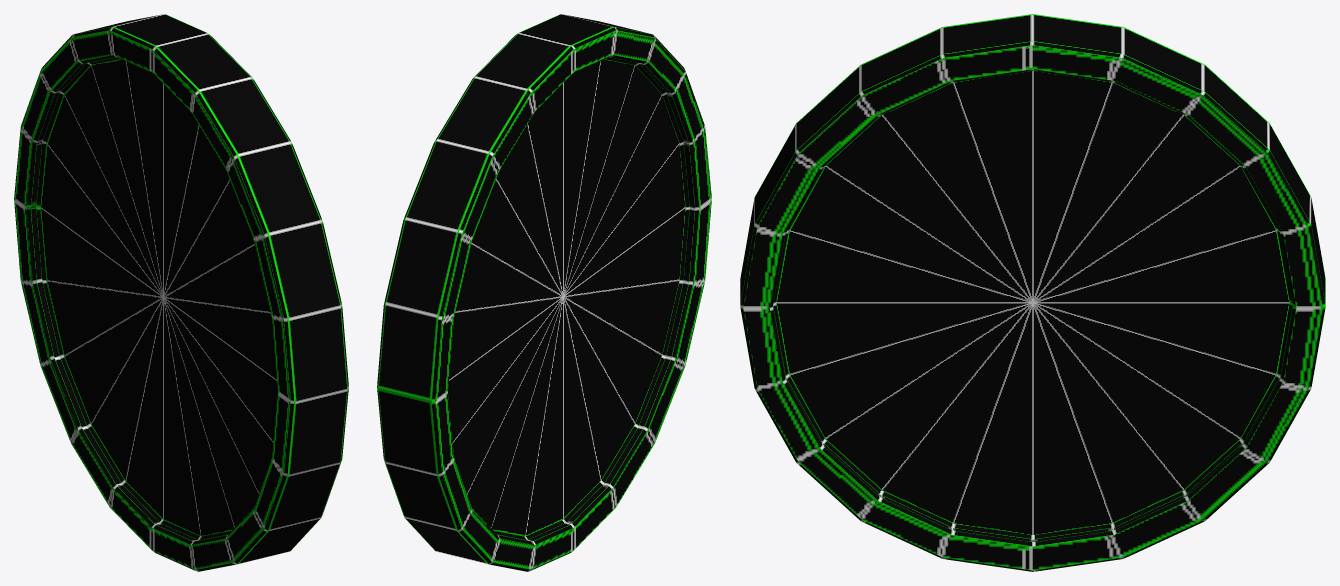
Rendered from coinappearFBX.FBX.
The picture shows the model from 3 angles, left to right: view 1: azimuth 30°, elevation 25°; view 2: azimuth 150°, elevation 25°; view 3: azimuth 270°, elevation 25°; orthographic projection. The views are drawn at different scales.
Parts seen in each view (by area): view 1: pCylinder003; view 2: pCylinder003; view 3: pCylinder003.
Part boxes in pixels (x1,y1,x2,y2): pCylinder003: (14,14,348,571); pCylinder003: (377,14,711,571); pCylinder003: (740,14,1325,571).
Bounding box in the file's own units: 0.1359 × 1.13 × 1.13.
Materials: 1 (1 with a texture image).
